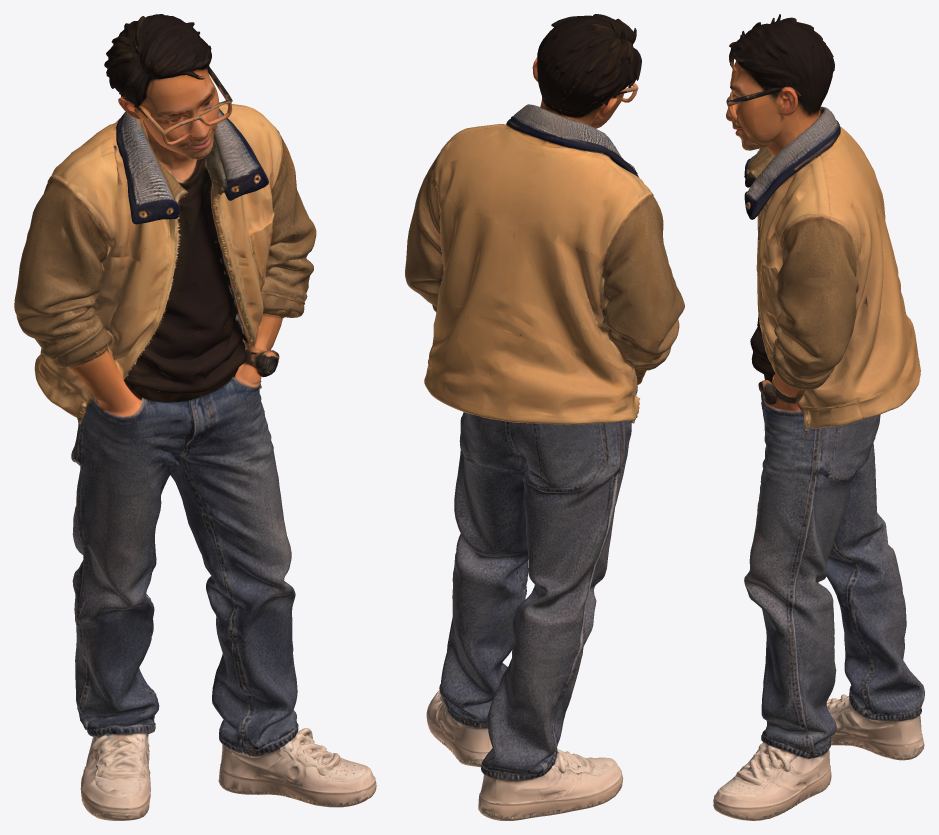
Rendered from HsinFeng3D.fbx.
3 renders of one model, left to right at view 1: azimuth 30°, elevation 25°; view 2: azimuth 150°, elevation 25°; view 3: azimuth 270°, elevation 25°, orthographic. The views are drawn at different scales.
Parts seen in each view (by area): view 1: HsinFeng3D; view 2: HsinFeng3D; view 3: HsinFeng3D.
Boxes of the visible parts, left/top/right/bottom form: HsinFeng3D: left=14, top=14, right=376, bottom=820; HsinFeng3D: left=405, top=14, right=684, bottom=820; HsinFeng3D: left=713, top=14, right=924, bottom=820.
Bounding box in the file's own units: 38.72 × 98.01 × 26.14.
Materials: 1 (1 with a texture image).
